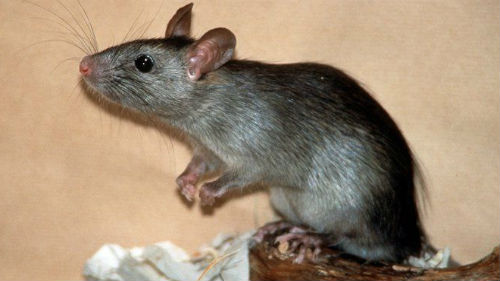rat: (64, 1, 351, 237)
